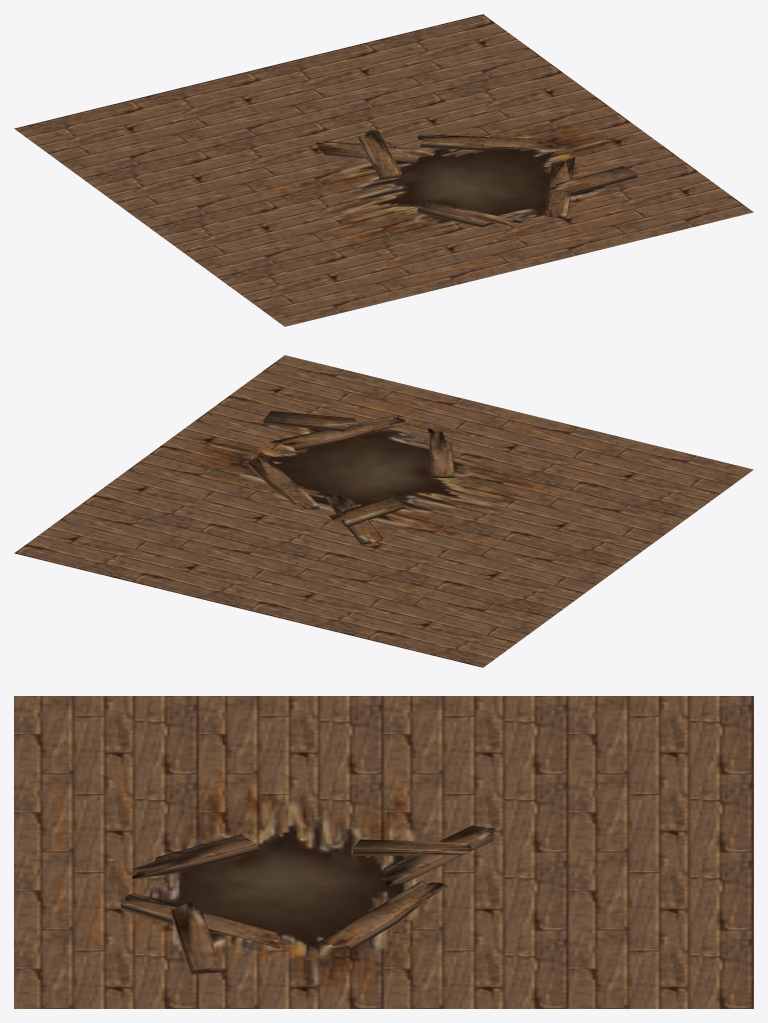
Rendered from a_SWAhole01_a.glb.
3 views of the same model, one above another, from view 1: azimuth 30°, elevation 25°; view 2: azimuth 150°, elevation 25°; view 3: azimuth 270°, elevation 25° (orthographic). The views are drawn at different scales.
Parts seen in each view (by area): view 1: a_SWAhole01_a; view 2: a_SWAhole01_a; view 3: a_SWAhole01_a.
Boxes of the visible parts, <box> form: a_SWAhole01_a: <box>14,14,753,326</box>; a_SWAhole01_a: <box>14,355,753,667</box>; a_SWAhole01_a: <box>14,696,753,1008</box>.
Bounding box in the file's own units: 4 × 0.0989 × 4.
Materials: 1 (1 with a texture image).
